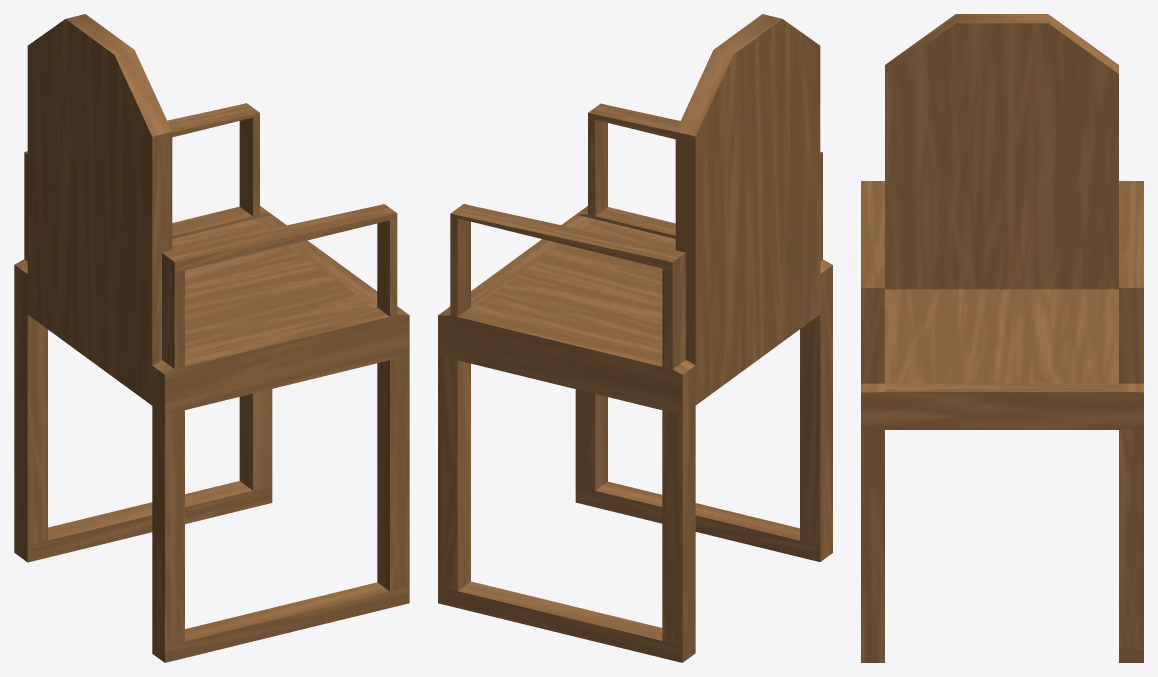
The model's file is Chair 3.fbx.
3 renders of one model, left to right at view 1: azimuth 30°, elevation 25°; view 2: azimuth 150°, elevation 25°; view 3: azimuth 270°, elevation 25°, orthographic. The views are drawn at different scales.
Parts seen in each view (by area): view 1: Chair3_1; view 2: Chair3_1; view 3: Chair3_1.
Boxes of the visible parts, x1=… form: Chair3_1: x1=14, y1=14, x2=409, y2=662; Chair3_1: x1=438, y1=14, x2=832, y2=662; Chair3_1: x1=861, y1=14, x2=1143, y2=662.
Size of the model in its own units: 78.74 by 176 by 83.89.
Materials: 1 (1 with a texture image).
